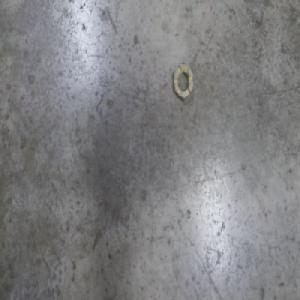Nut: (172, 60, 193, 101)
